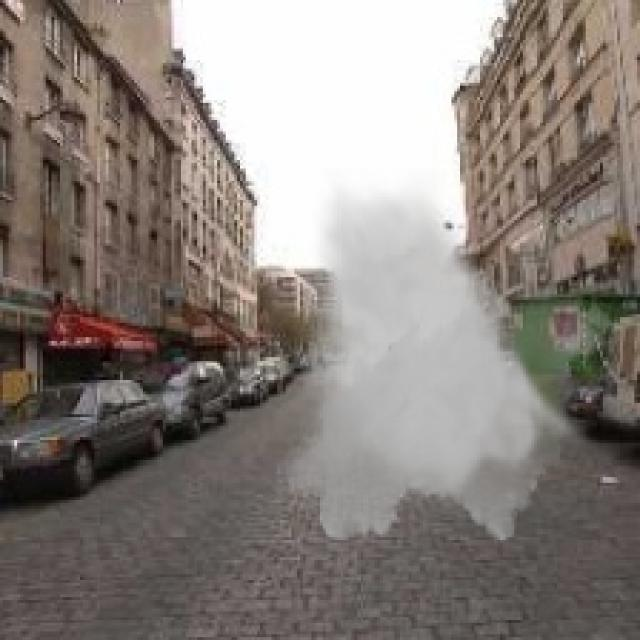smoke: (274, 168, 623, 552)
